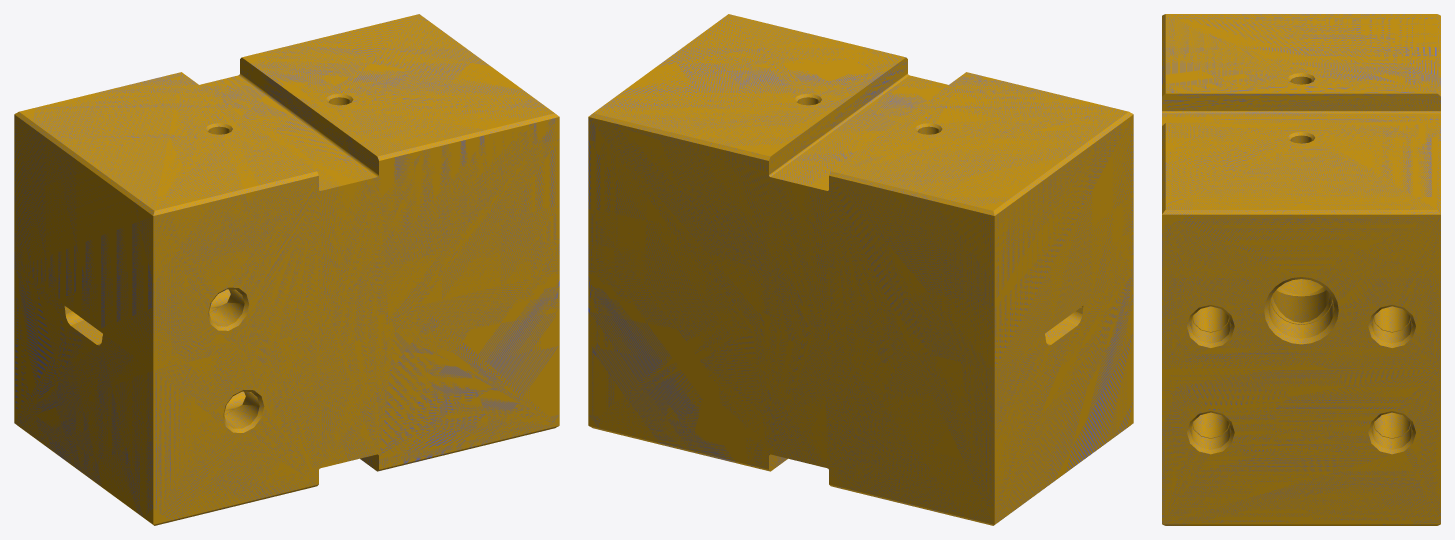
The picture shows the model from 3 angles, left to right: view 1: azimuth 30°, elevation 25°; view 2: azimuth 150°, elevation 25°; view 3: azimuth 270°, elevation 25°; orthographic projection.
Visible parts, largest first — view 1: VSCL7US (×2); view 2: VSCL7US (×2); view 3: VSCL7US (×2).
Boxes of the visible parts, <box> form: VSCL7US (×2): <box>14,14,559,525</box>; VSCL7US (×2): <box>588,14,1133,525</box>; VSCL7US (×2): <box>1162,14,1440,525</box>.
Bounding box in the file's own units: 135 × 80 × 100.
